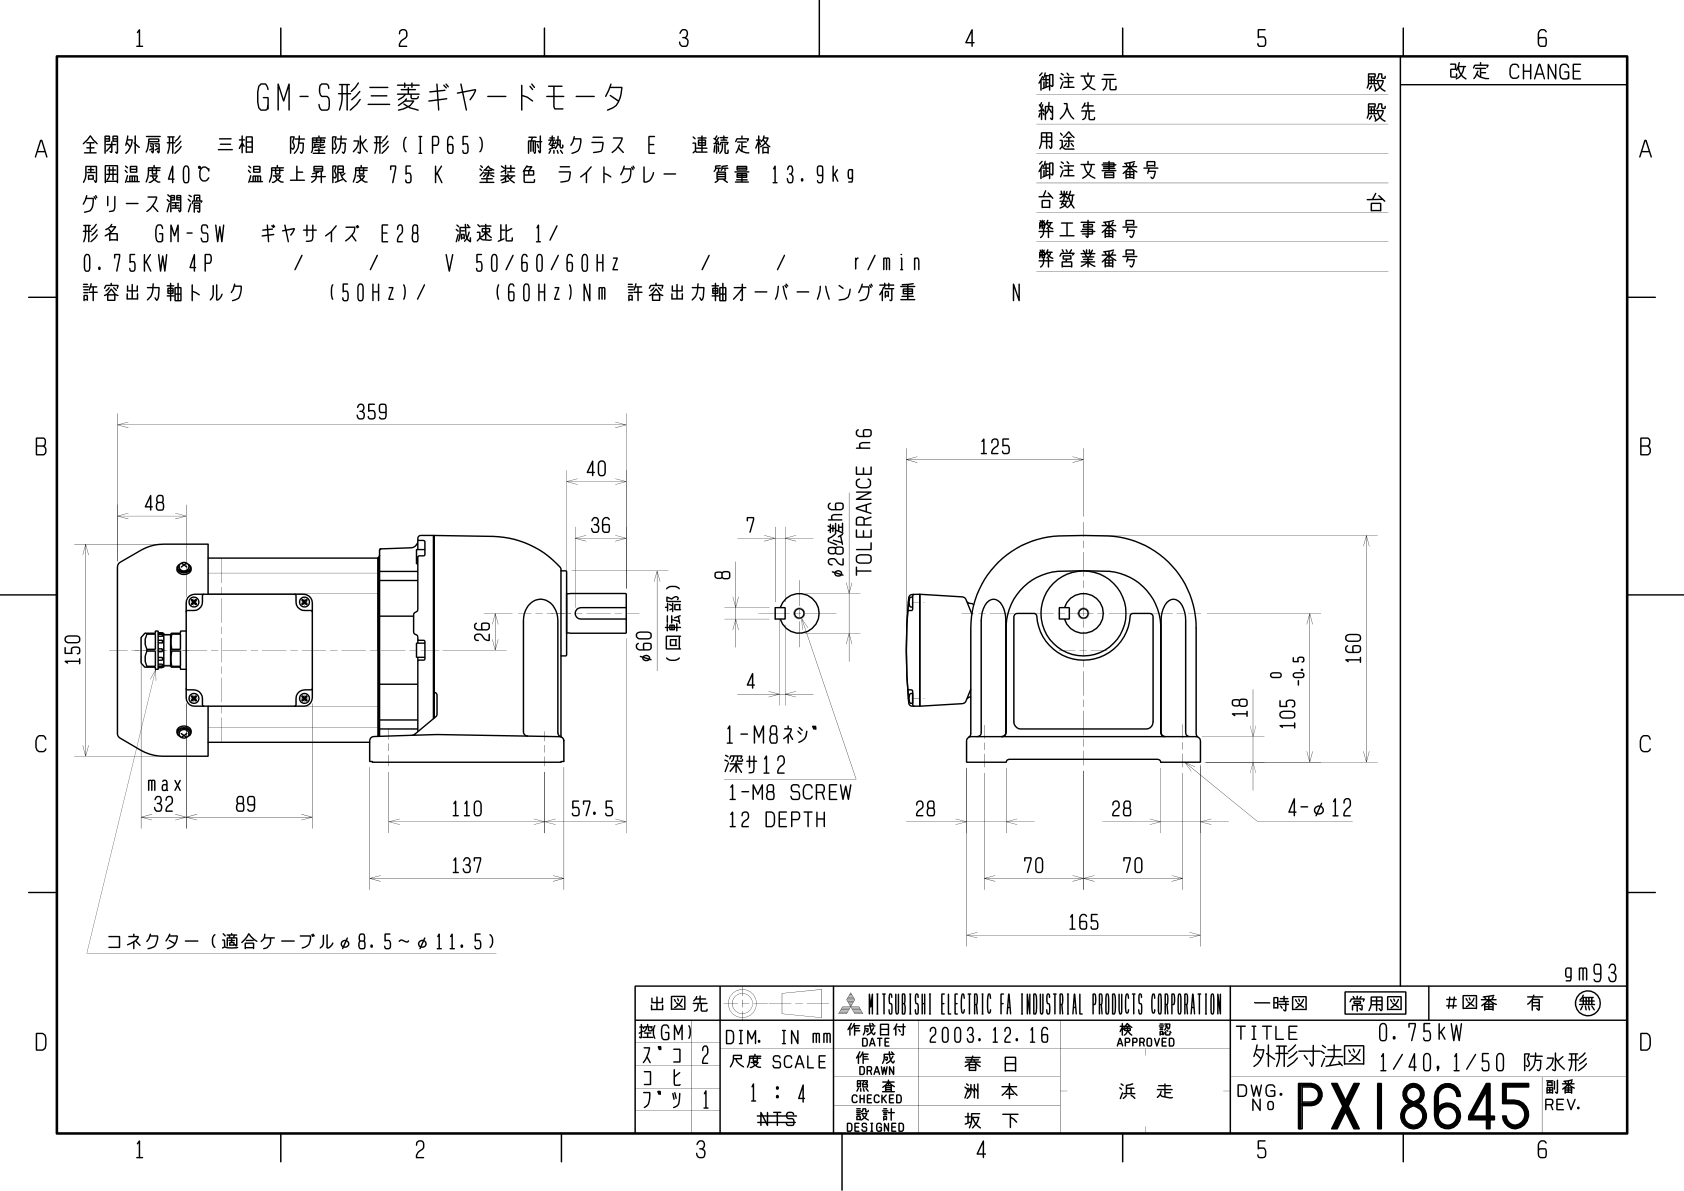GM_S_IP65＿三相_脚: (12, 6, 1671, 1191)
